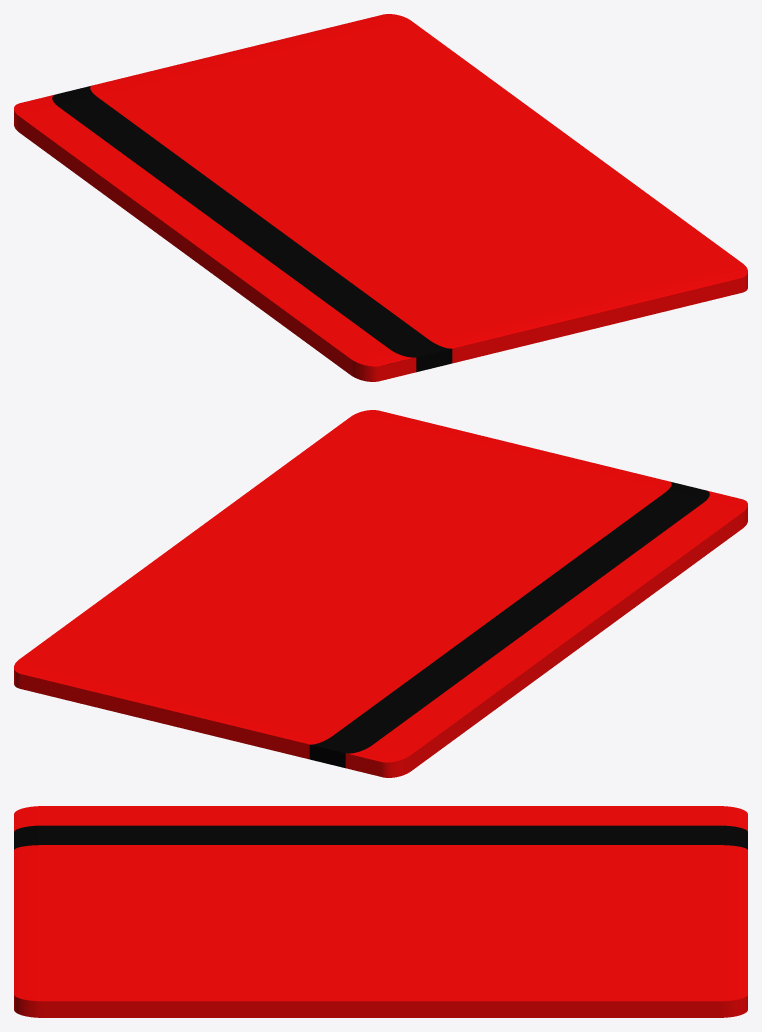
File: card-2.obj
3 views of the same model, one above another, from view 1: azimuth 30°, elevation 25°; view 2: azimuth 150°, elevation 25°; view 3: azimuth 270°, elevation 25° (orthographic). The views are drawn at different scales.
Parts seen in each view (by area): view 1: Cube.001; view 2: Cube.001; view 3: Cube.001.
Part boxes in pixels (x1=…): Cube.001: x1=14, y1=14, x2=747, y2=381; Cube.001: x1=14, y1=410, x2=747, y2=777; Cube.001: x1=14, y1=806, x2=747, y2=1017.
Size of the model in its own units: 2 by 0.0795 by 3.18.
